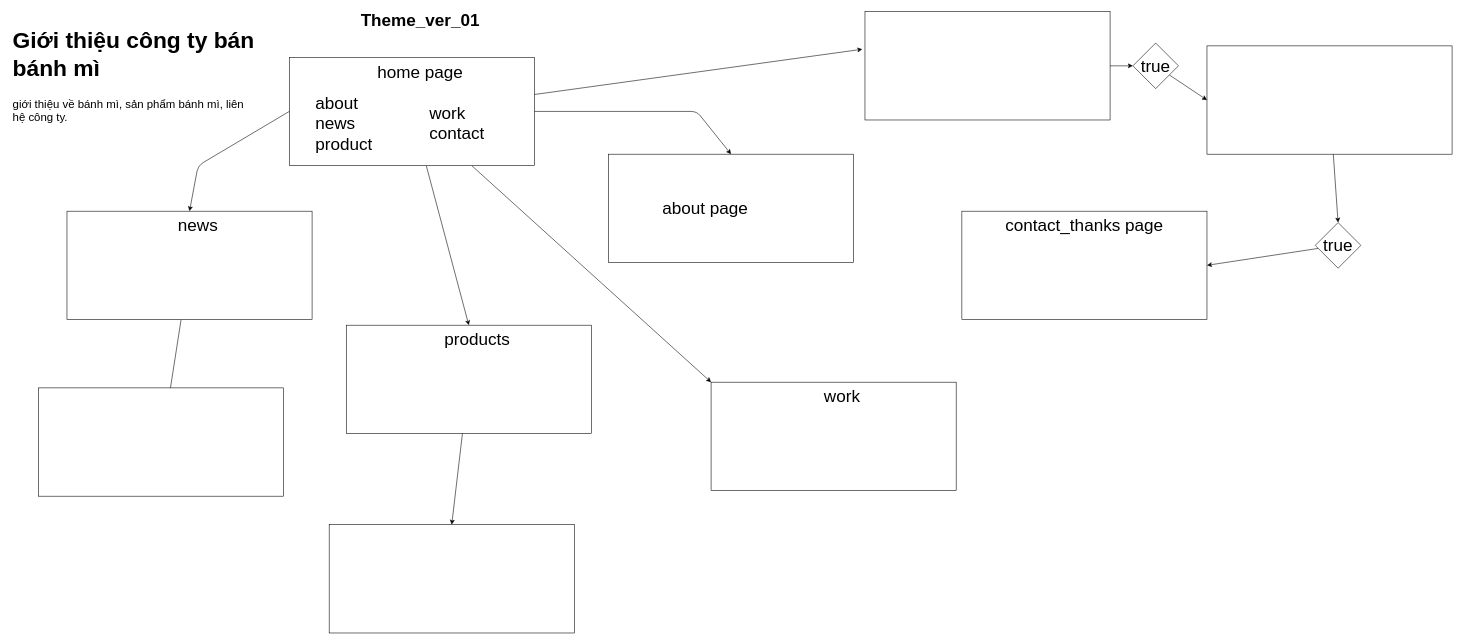
This 1462x643 diagram has some shape labels left out. The shapes that lost their labels are listed below. From the top down, each one's box as (x1, y1, x2, y2) in pixels, then its label:
(864, 11, 1110, 120): contact page
(1206, 45, 1452, 154): contact_confirm page
(38, 387, 284, 496): new_detail
(329, 524, 574, 633): product_detail
